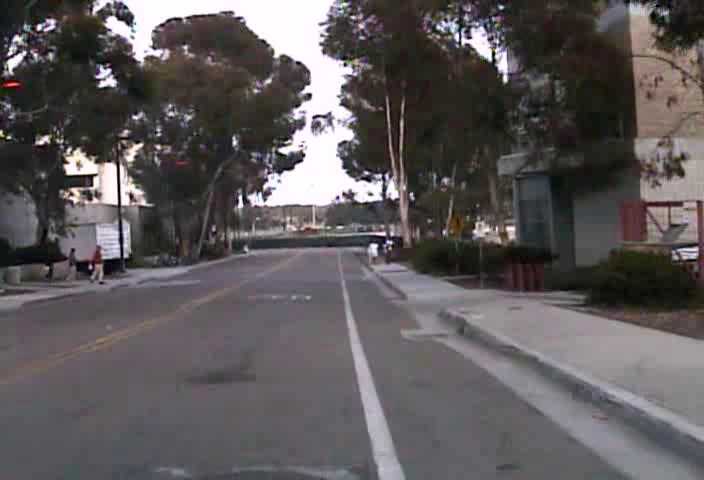pedestrianCrossing: (446, 212, 466, 237)
